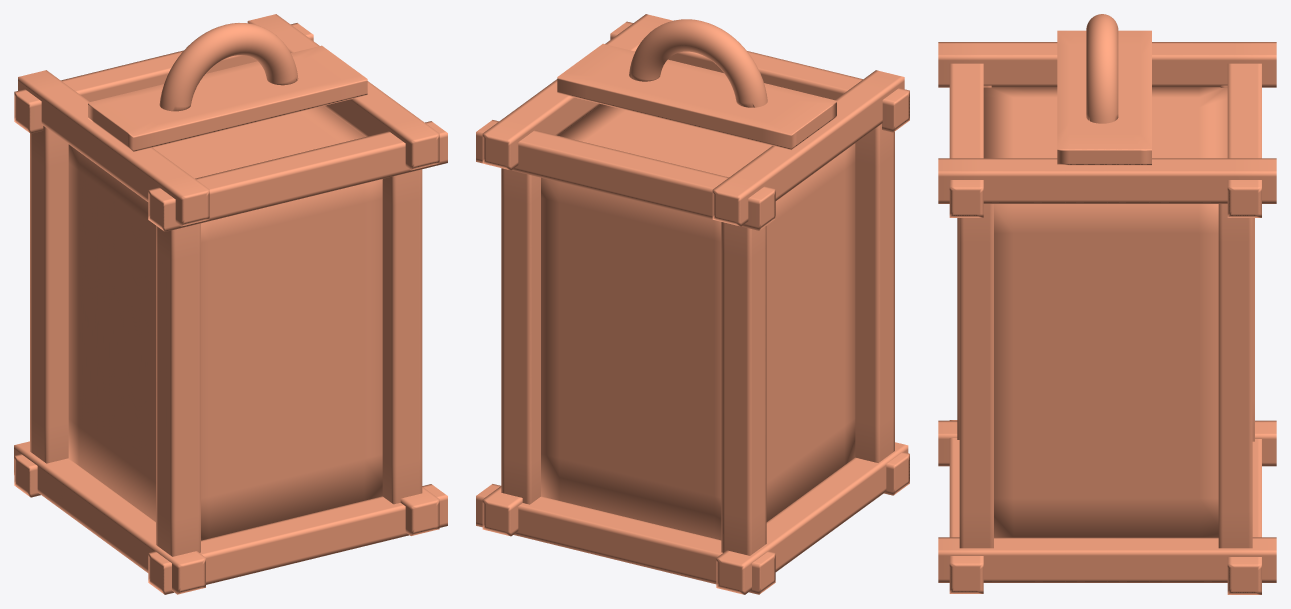
The model's file is Only Lantern v1.01.fbx.
The picture shows the model from 3 angles, left to right: view 1: azimuth 30°, elevation 25°; view 2: azimuth 150°, elevation 25°; view 3: azimuth 270°, elevation 25°; orthographic projection. The views are drawn at different scales.
Parts seen in each view (by area): view 1: PM3D_Ring3D1_1; view 2: PM3D_Ring3D1_1; view 3: PM3D_Ring3D1_1.
Boxes of the visible parts, left/top/right/bottom form: PM3D_Ring3D1_1: left=14, top=14, right=447, bottom=594; PM3D_Ring3D1_1: left=476, top=14, right=909, bottom=594; PM3D_Ring3D1_1: left=938, top=14, right=1276, bottom=594.
Bounding box in the file's own units: 4.31 × 7.02 × 4.31.
